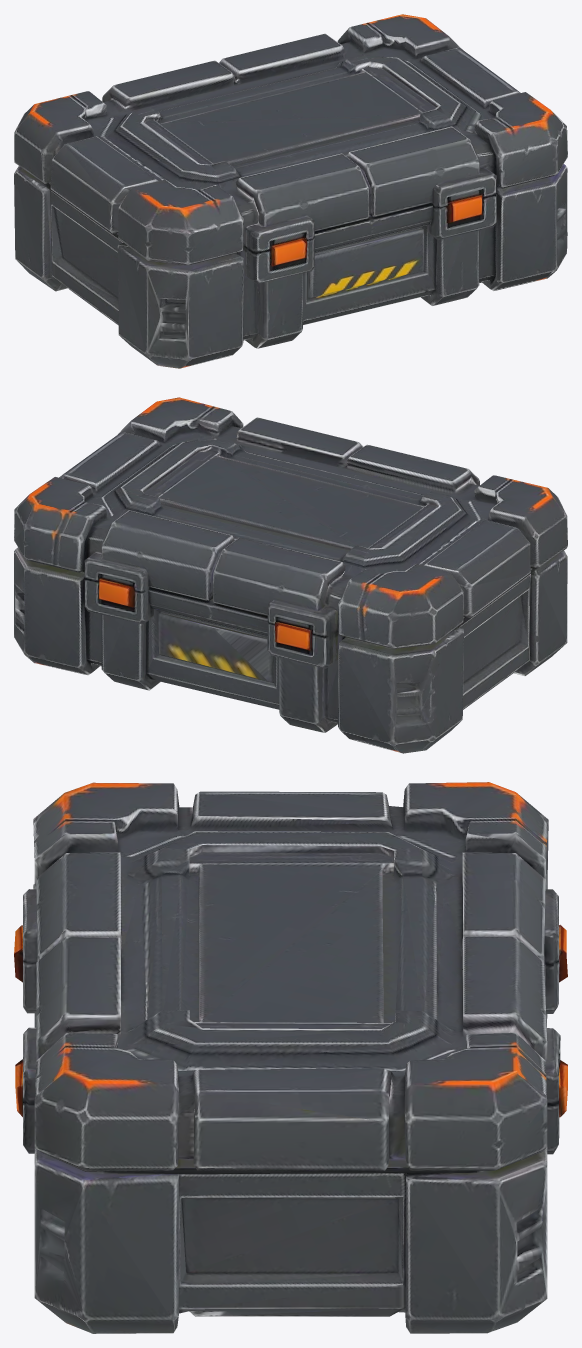
File: mini_chest.glb
The picture shows the model from 3 angles, top to bottom: view 1: azimuth 30°, elevation 25°; view 2: azimuth 150°, elevation 25°; view 3: azimuth 270°, elevation 25°; orthographic projection. The views are drawn at different scales.
Visible parts, largest first — view 1: mesh_node; view 2: mesh_node; view 3: mesh_node.
Boxes of the visible parts, x1=… form: mesh_node: x1=14, y1=14, x2=567, y2=368; mesh_node: x1=14, y1=397, x2=567, y2=753; mesh_node: x1=14, y1=782, x2=567, y2=1333.
Bounding box in the file's own units: 1 × 0.3633 × 0.7285.
Materials: 1 (1 with a texture image).
